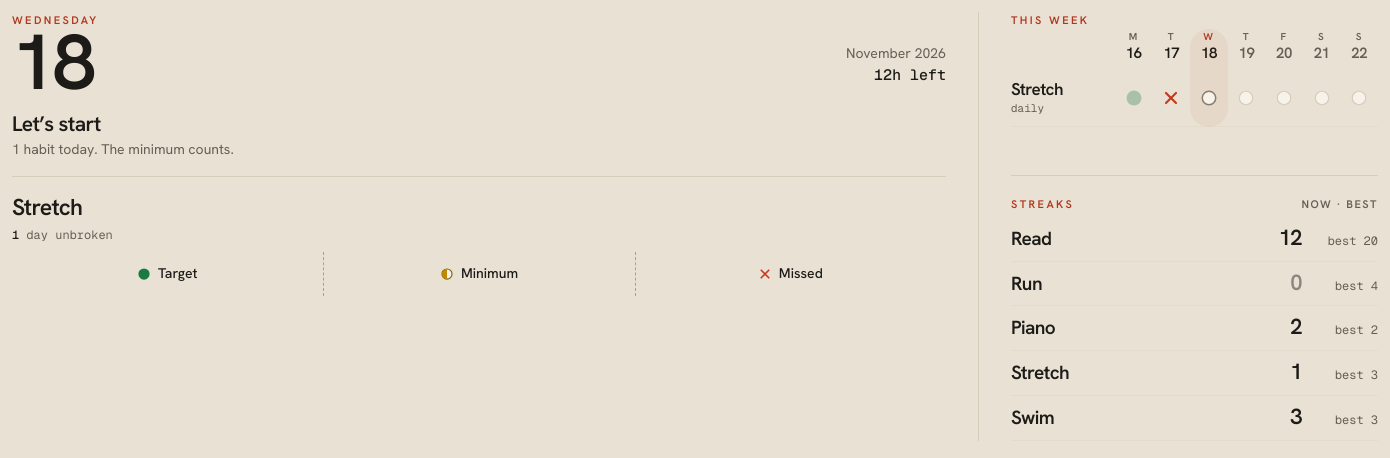
TodayPage › answers a miss with a kind word instead of a stamp
Click the button "Missed".
click(790, 274)  # box [635,252,946,296]
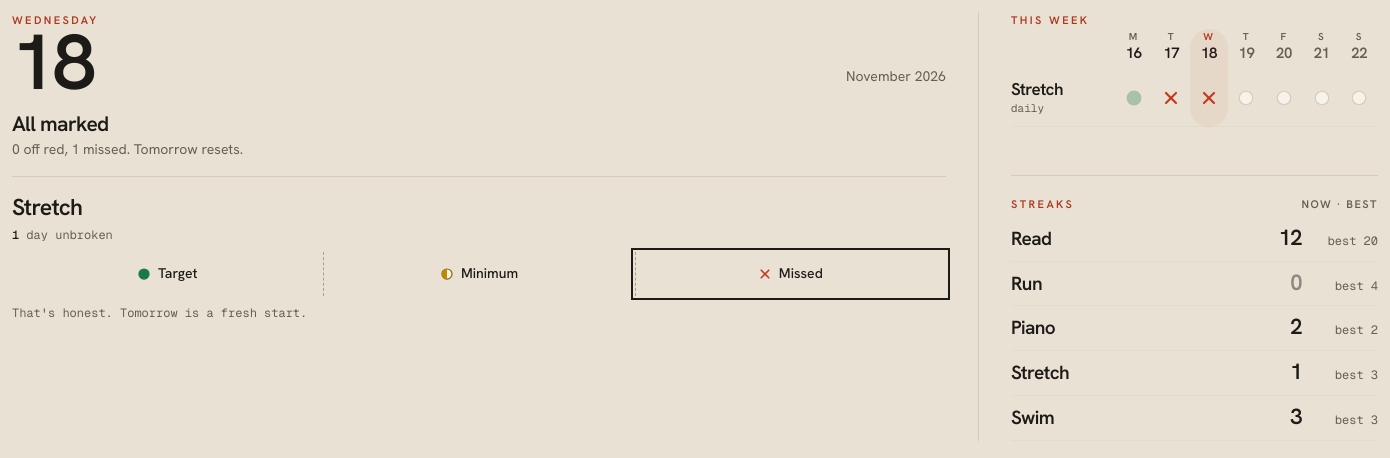
expect the message reads "That's honest. Tomorrow is a fresh start.": met, box [12,305,307,321]
expect the heading "All marked" is shown: met, box [12,110,109,137]
